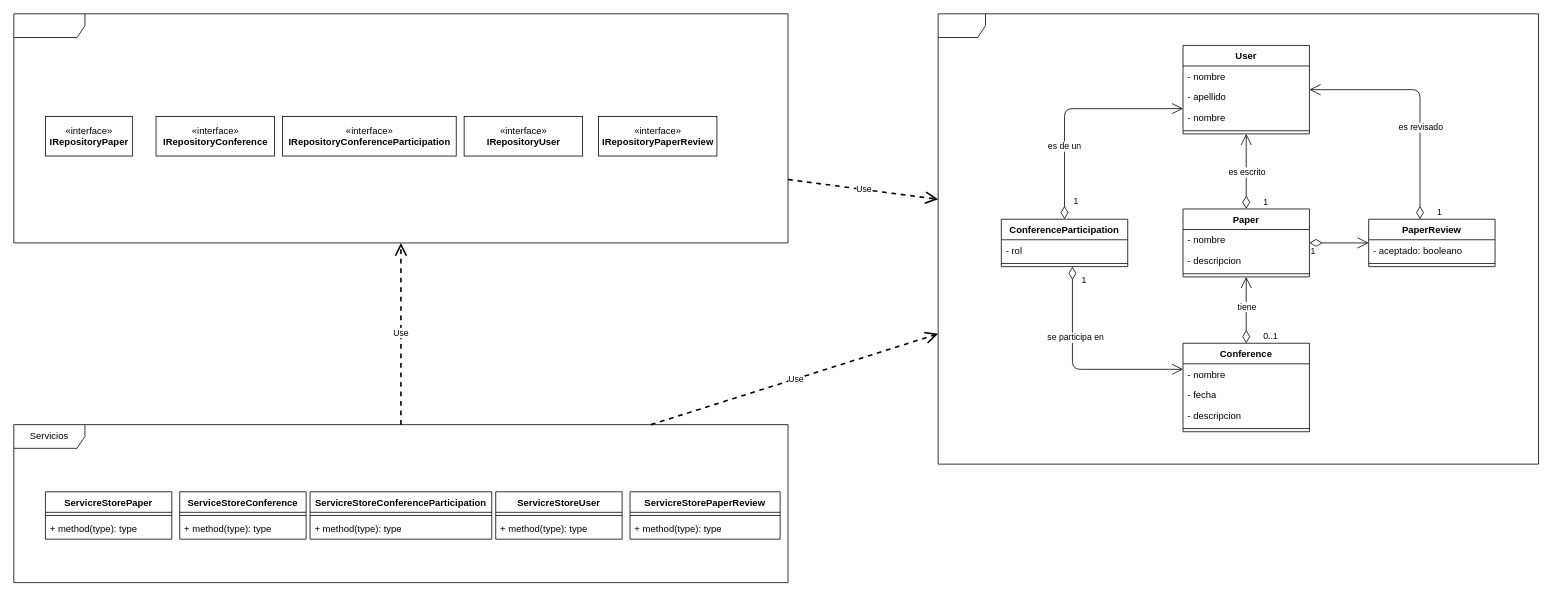
The diagram is 1552 pixels wide and 596 high, and some of its shapes have lost their labels. The shapes that lost their labels are listed below. From the top down, each one's centre as x and y in pixels, then its label:
the point at 400,128: AccesoADatos
the point at 1238,238: modelo
